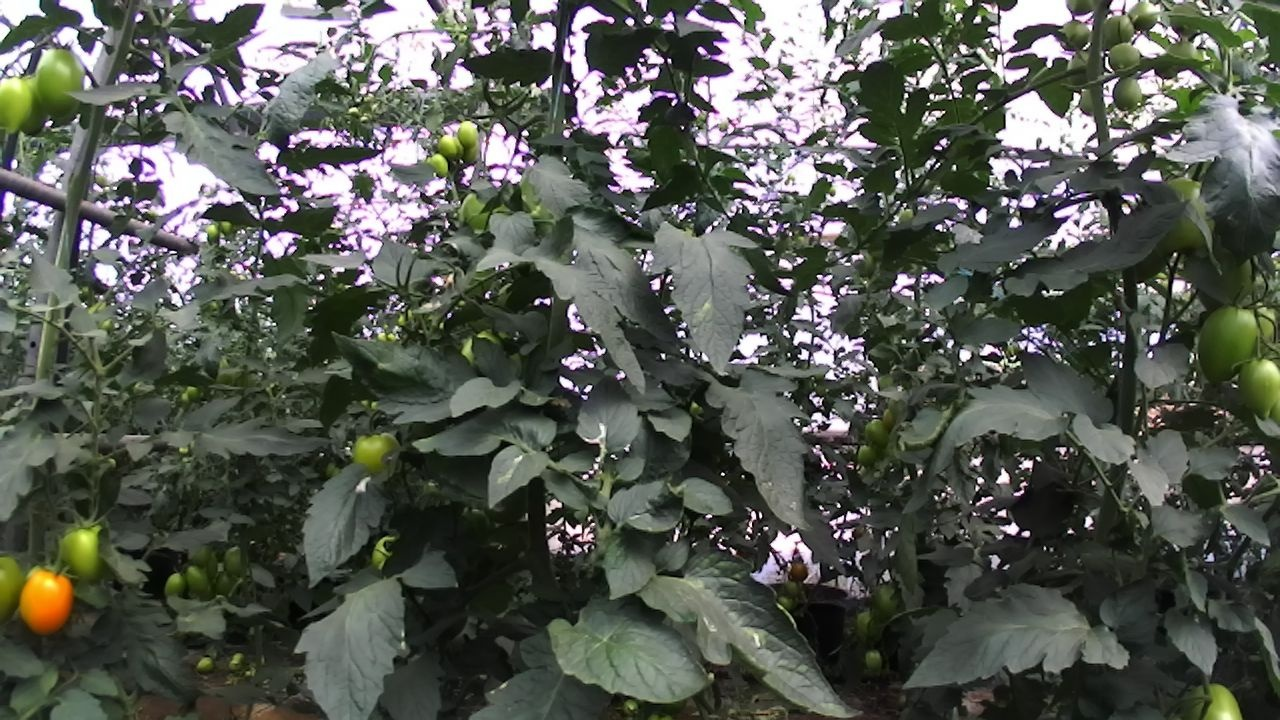tomato: (1185, 289, 1271, 397), (27, 31, 102, 132), (330, 414, 420, 494), (10, 556, 87, 645), (54, 517, 129, 597), (1228, 346, 1280, 429), (0, 71, 46, 140), (1051, 4, 1098, 63), (1096, 5, 1141, 56), (1101, 36, 1151, 81), (1105, 70, 1149, 115), (866, 576, 908, 623), (858, 410, 899, 455), (1123, 0, 1168, 39), (218, 539, 254, 580), (179, 560, 218, 597), (857, 640, 891, 679), (159, 568, 192, 604), (453, 115, 485, 152), (431, 129, 464, 164), (852, 439, 882, 474), (424, 149, 453, 181), (190, 649, 218, 682), (215, 216, 234, 238), (203, 221, 221, 242)
